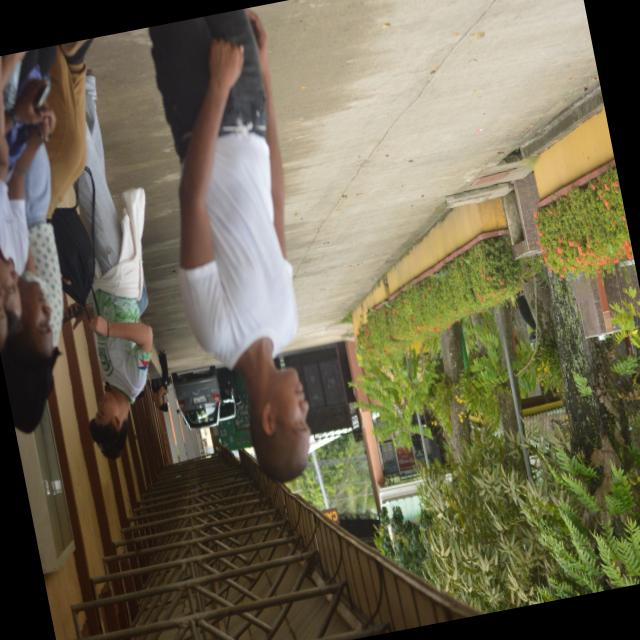person: (149, 9, 309, 480), (74, 74, 152, 457), (150, 350, 168, 411)
